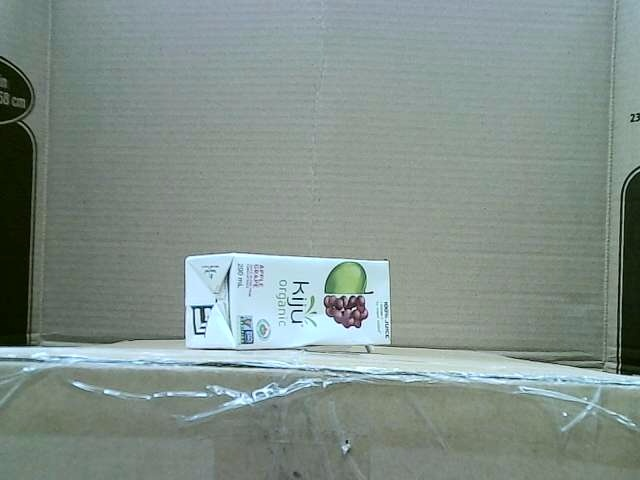JuiceBox: (184, 252, 394, 355)
